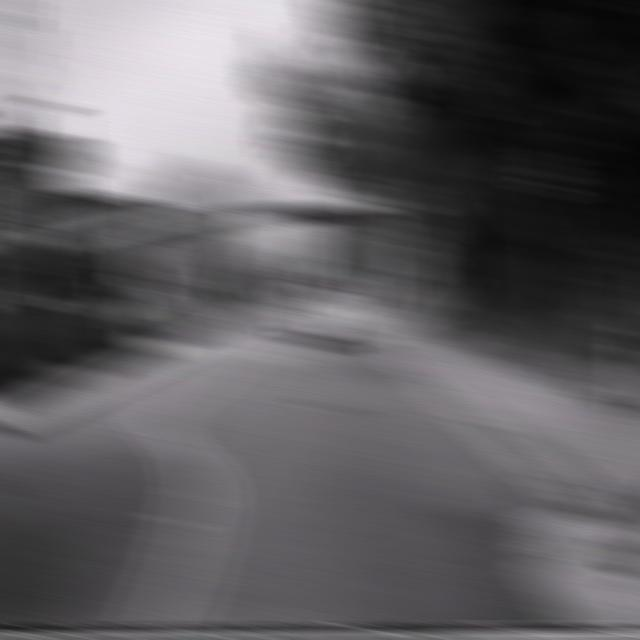pedestrianCrossing: (401, 204, 444, 247)
